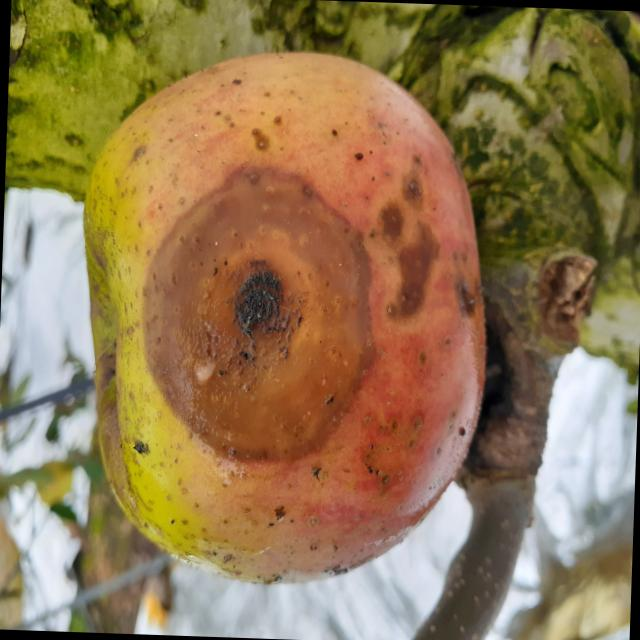rotten: (62, 37, 505, 603)
